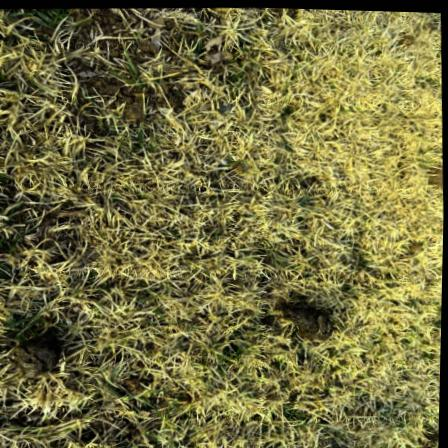dog-poop: (9, 322, 79, 381), (286, 291, 343, 341)
